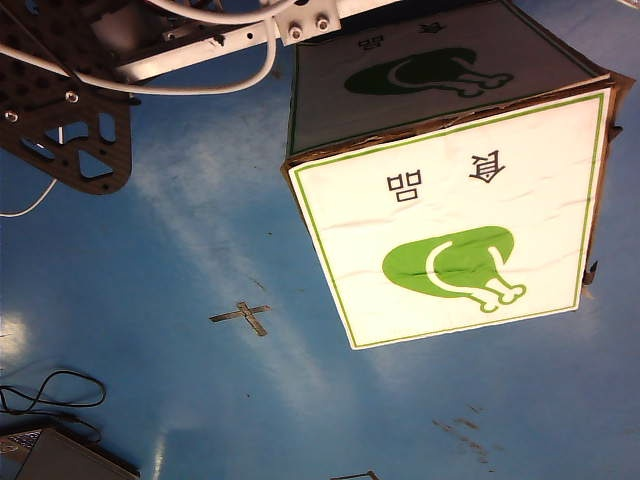Cube_food: (339, 142, 579, 321)
